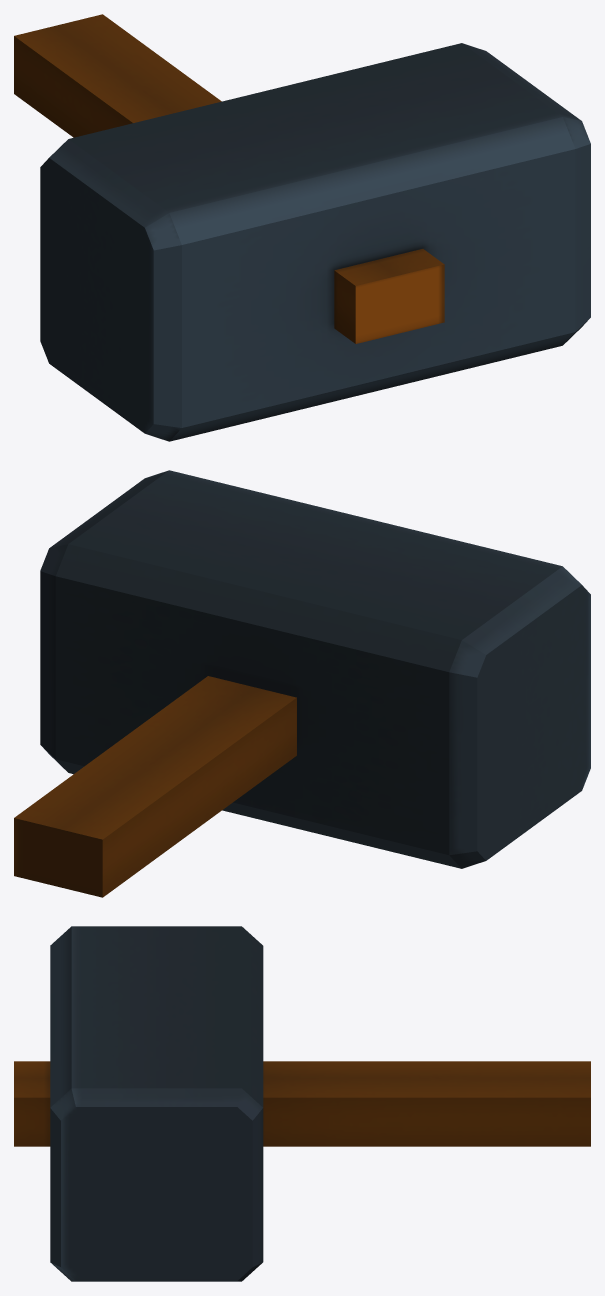
The model's file is tonkachi.fbx.
3 views of the same model, one above another, from view 1: azimuth 30°, elevation 25°; view 2: azimuth 150°, elevation 25°; view 3: azimuth 270°, elevation 25° (orthographic). The views are drawn at different scales.
Parts seen in each view (by area): view 1: tonkachi; view 2: tonkachi; view 3: tonkachi.
Part boxes in pixels (left/top/right/bottom): tonkachi: left=14, top=14, right=590, bottom=441; tonkachi: left=14, top=470, right=590, bottom=897; tonkachi: left=14, top=926, right=590, bottom=1281.
Size of the model in its own units: 57.8 by 28.9 by 78.25.
